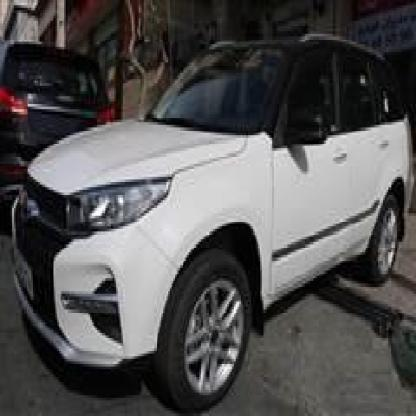Car: (0, 16, 416, 390), (0, 34, 107, 195)
